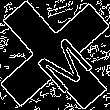M_NW: (21, 20, 89, 90)
